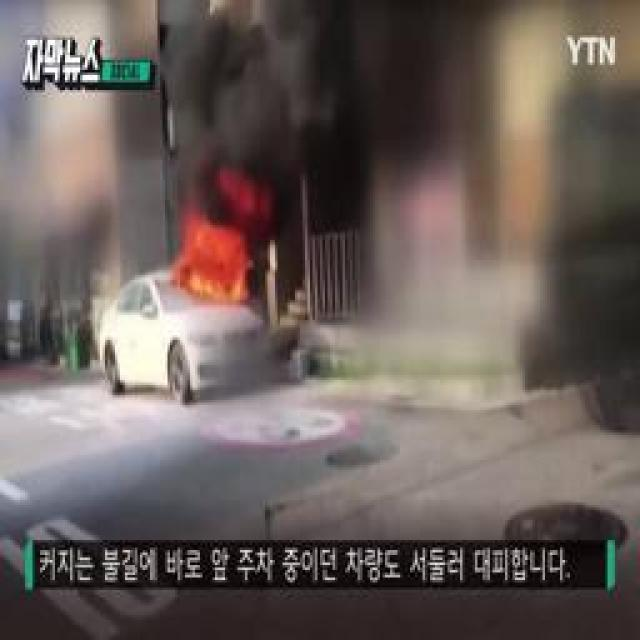Fire: (172, 216, 260, 304)
